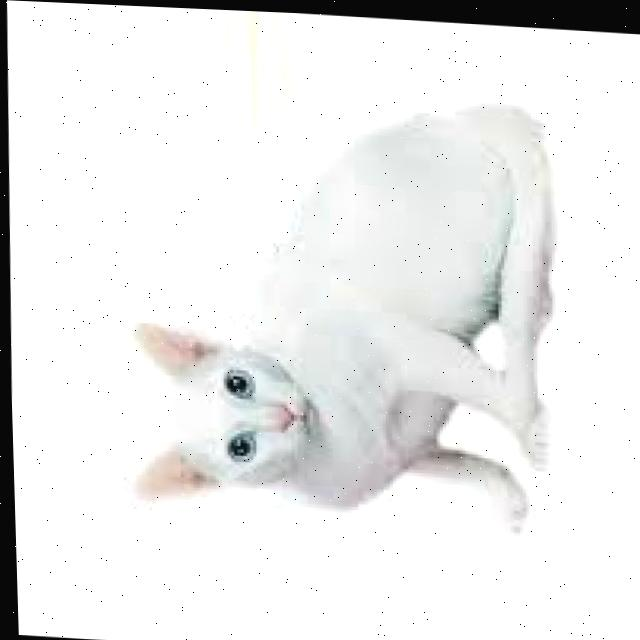Khao Manee: (110, 68, 570, 537)
